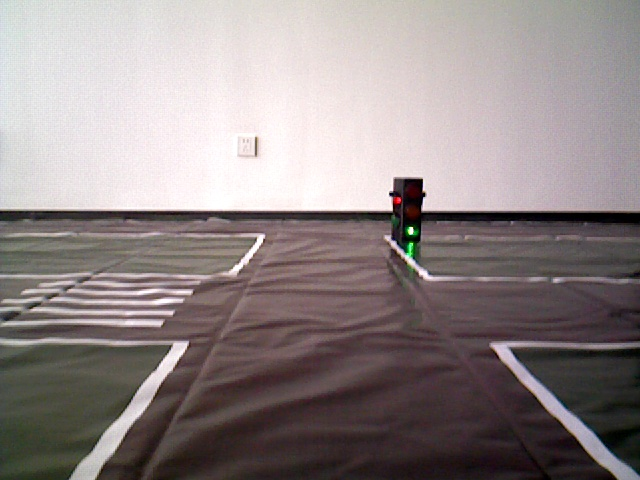green: (393, 176, 418, 238)
